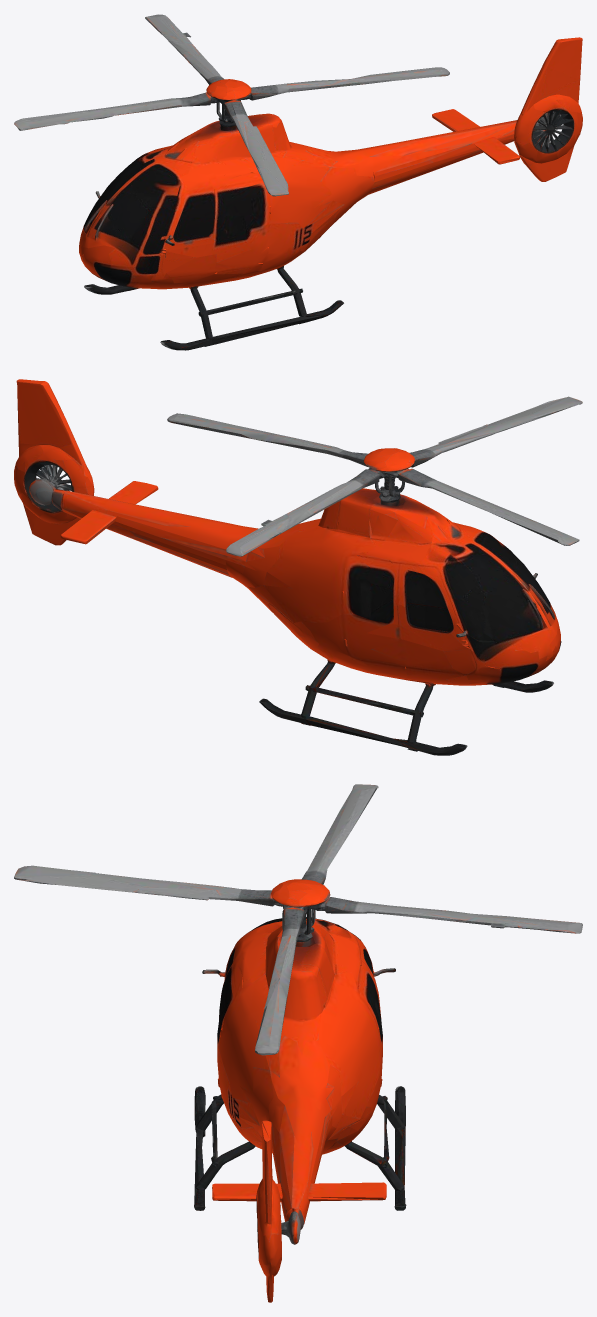
File: helicoptere.glb
3 renders of one model, top to bottom at view 1: azimuth 30°, elevation 25°; view 2: azimuth 150°, elevation 25°; view 3: azimuth 270°, elevation 25°, orthographic. The views are drawn at different scales.
Size of the model in its own units: 1.9 by 0.7525 by 1.34.
Materials: 1 (1 with a texture image).
